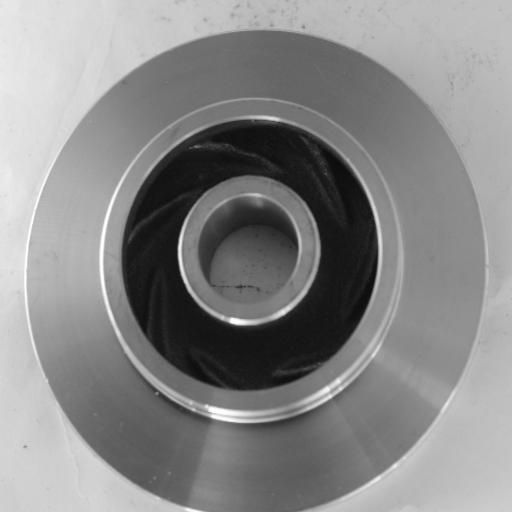polished_casting: (27, 25, 488, 512)
